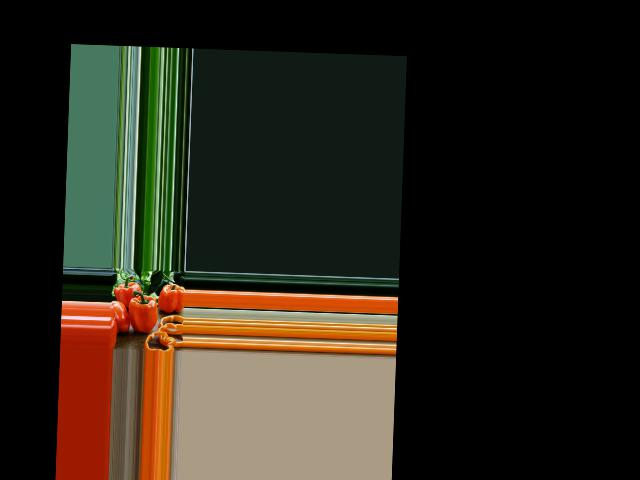bell_pepper: (109, 299, 130, 335)
